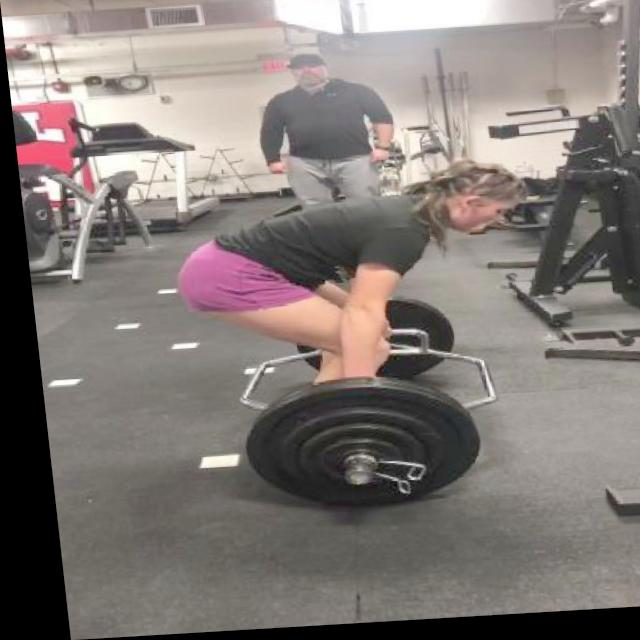barbell: (227, 375, 479, 526)
